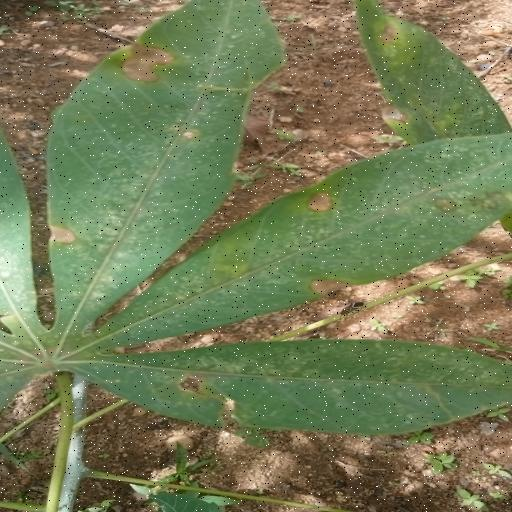Cassava_Brown_Leaf_Spot: (7, 0, 512, 438)
